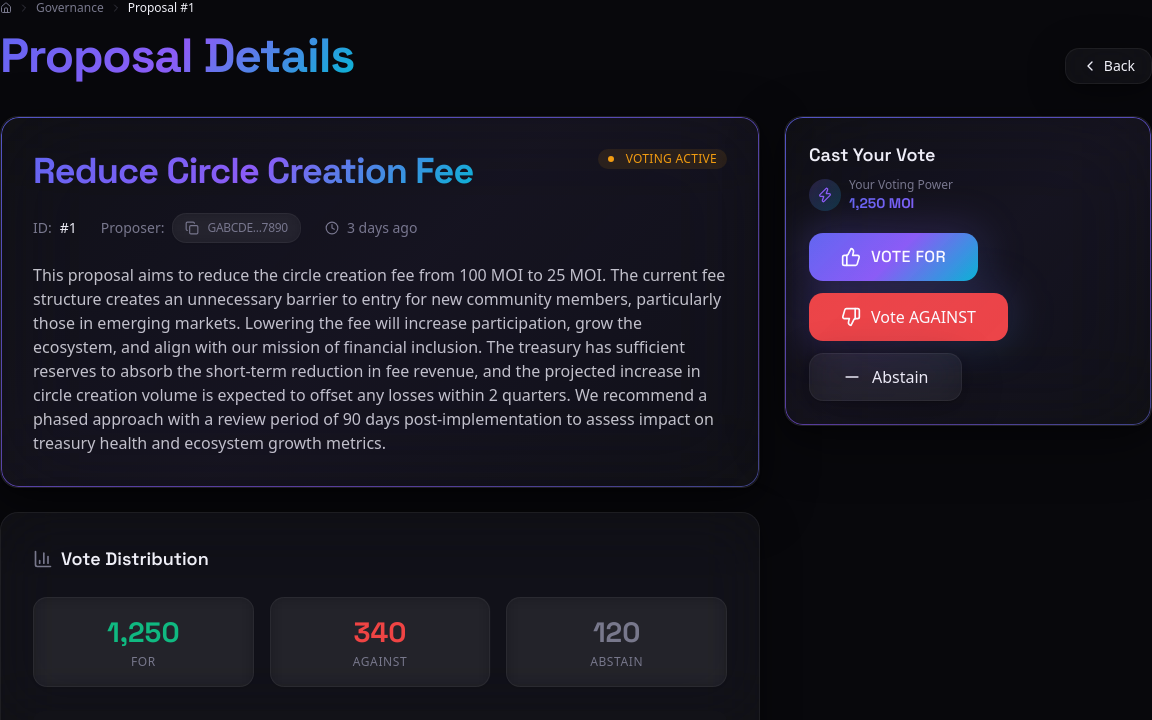
it: Voting Panel Interactions › clicking vote button shows confirmation dialog
Click the button "Vote FOR" at (894, 257), box [809,233,978,281]
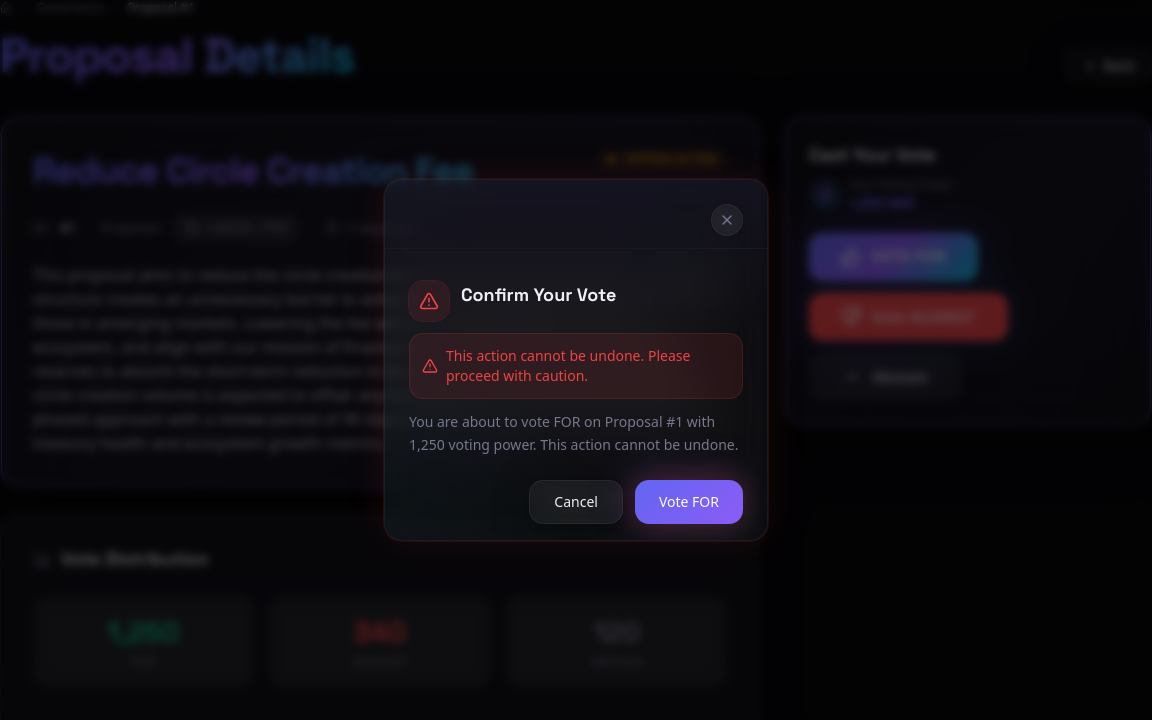
Expected: the heading "Confirm Your Vote" is shown, [461,281,616,309]
Expected: the text "You are about to vote FOR" is shown, [409,412,738,454]
